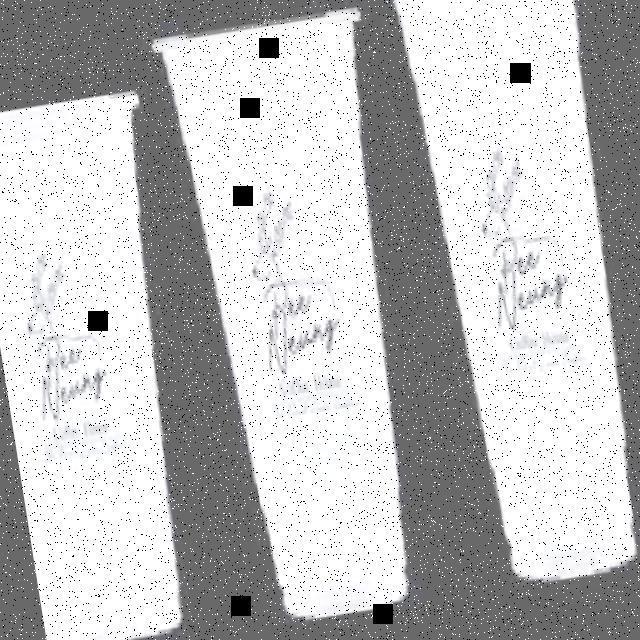plastic_cup: (150, 4, 448, 626), (378, 0, 640, 597), (0, 95, 223, 640)
